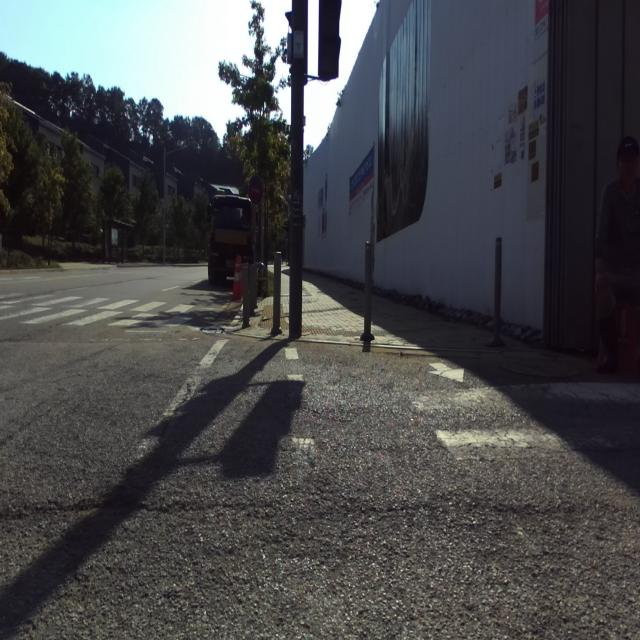횡단보도: (407, 361, 639, 640)
